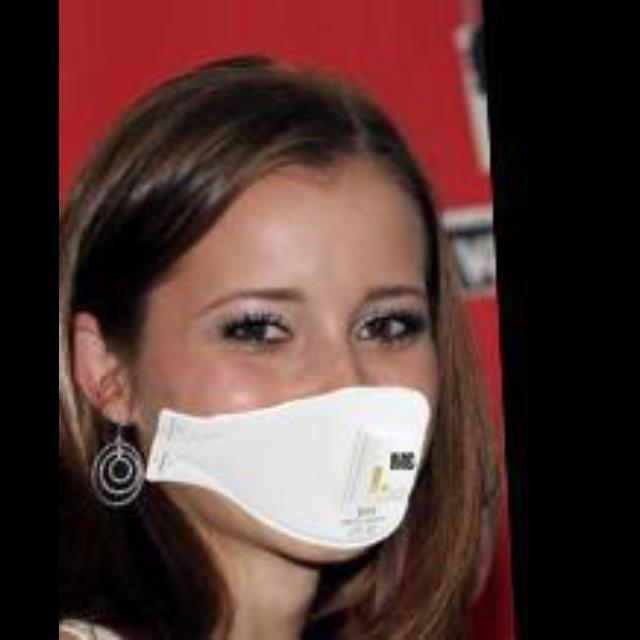suspicion: (140, 76, 462, 560)
